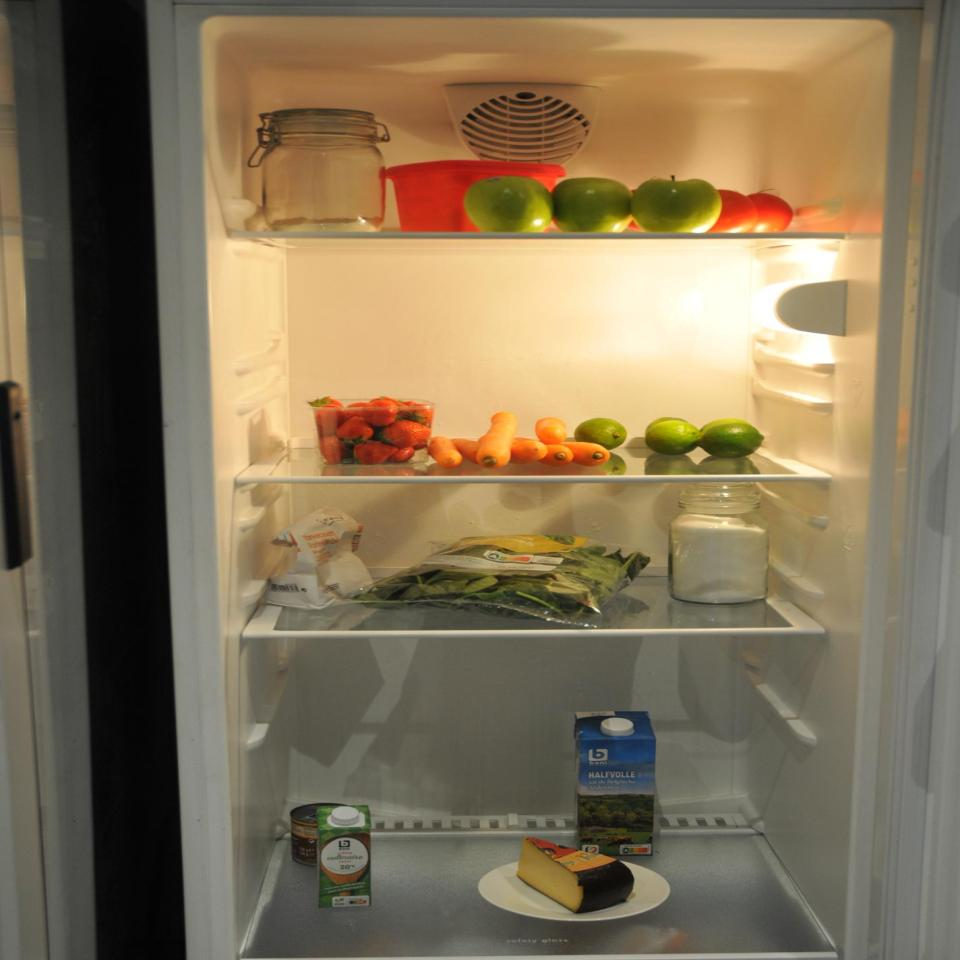Leche: (570, 707, 659, 861)
Mantequilla: (380, 158, 568, 232)
Manzana: (457, 170, 725, 237)
Queso: (511, 833, 638, 919)
Tomate: (706, 186, 799, 236)
Zanahoria: (428, 409, 616, 476)
